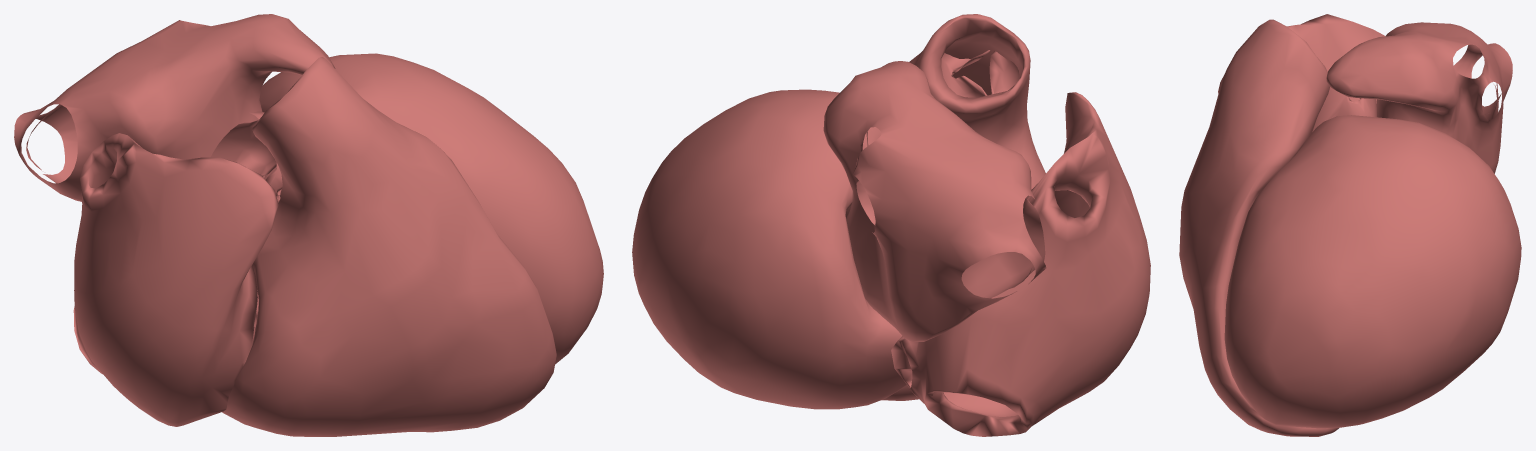
The model's file is vh_f_heart.glb.
3 renders of one model, left to right at view 1: azimuth 30°, elevation 25°; view 2: azimuth 150°, elevation 25°; view 3: azimuth 270°, elevation 25°, orthographic. The views are drawn at different scales.
Visible parts, largest first — view 1: VH_F_right_ventricle, VH_F_right_cardiac_atrium, VH_F_left_ventricle, VH_F_left_cardiac_atrium, VH_F_aortic_valve; view 2: VH_F_left_ventricle, VH_F_right_cardiac_atrium, VH_F_left_cardiac_atrium, VH_F_right_ventricle, VH_F_pulmonary_valve; view 3: VH_F_left_ventricle, VH_F_right_ventricle, VH_F_left_cardiac_atrium, VH_F_right_cardiac_atrium, VH_F_aortic_valve.
Boxes of the visible parts, x1=… form: VH_F_right_ventricle: x1=222, y1=57, x2=556, y2=436; VH_F_right_cardiac_atrium: x1=73, y1=133, x2=278, y2=426; VH_F_left_ventricle: x1=259, y1=53, x2=603, y2=364; VH_F_left_cardiac_atrium: x1=14, y1=14, x2=335, y2=201; VH_F_aortic_valve: x1=210, y1=111, x2=282, y2=202; VH_F_left_ventricle: x1=632, y1=89, x2=906, y2=409; VH_F_right_cardiac_atrium: x1=891, y1=92, x2=1150, y2=436; VH_F_left_cardiac_atrium: x1=823, y1=61, x2=1046, y2=341; VH_F_right_ventricle: x1=881, y1=14, x2=1045, y2=400; VH_F_pulmonary_valve: x1=941, y1=50, x2=1019, y2=97; VH_F_left_ventricle: x1=1224, y1=115, x2=1521, y2=428; VH_F_right_ventricle: x1=1179, y1=19, x2=1338, y2=436; VH_F_left_cardiac_atrium: x1=1326, y1=22, x2=1512, y2=173; VH_F_right_cardiac_atrium: x1=1218, y1=14, x2=1384, y2=103; VH_F_aortic_valve: x1=1312, y1=87, x2=1376, y2=131.
Size of the model in its own units: 0.1426 by 0.1098 by 0.1014.
